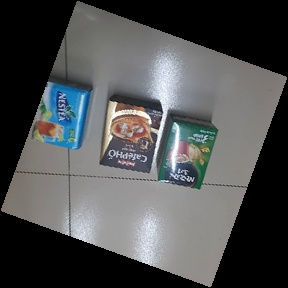CF pho: (100, 94, 163, 174)
Nes Rang: (156, 112, 218, 191)
Nestea: (27, 73, 94, 152)
